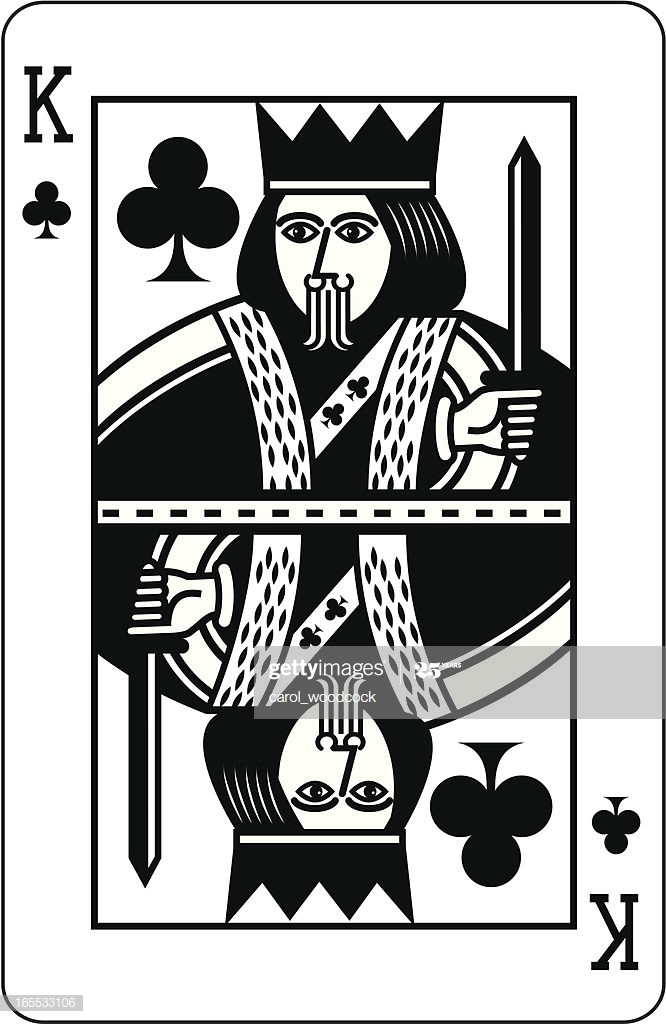king of clubs: (5, 17, 666, 1000)
